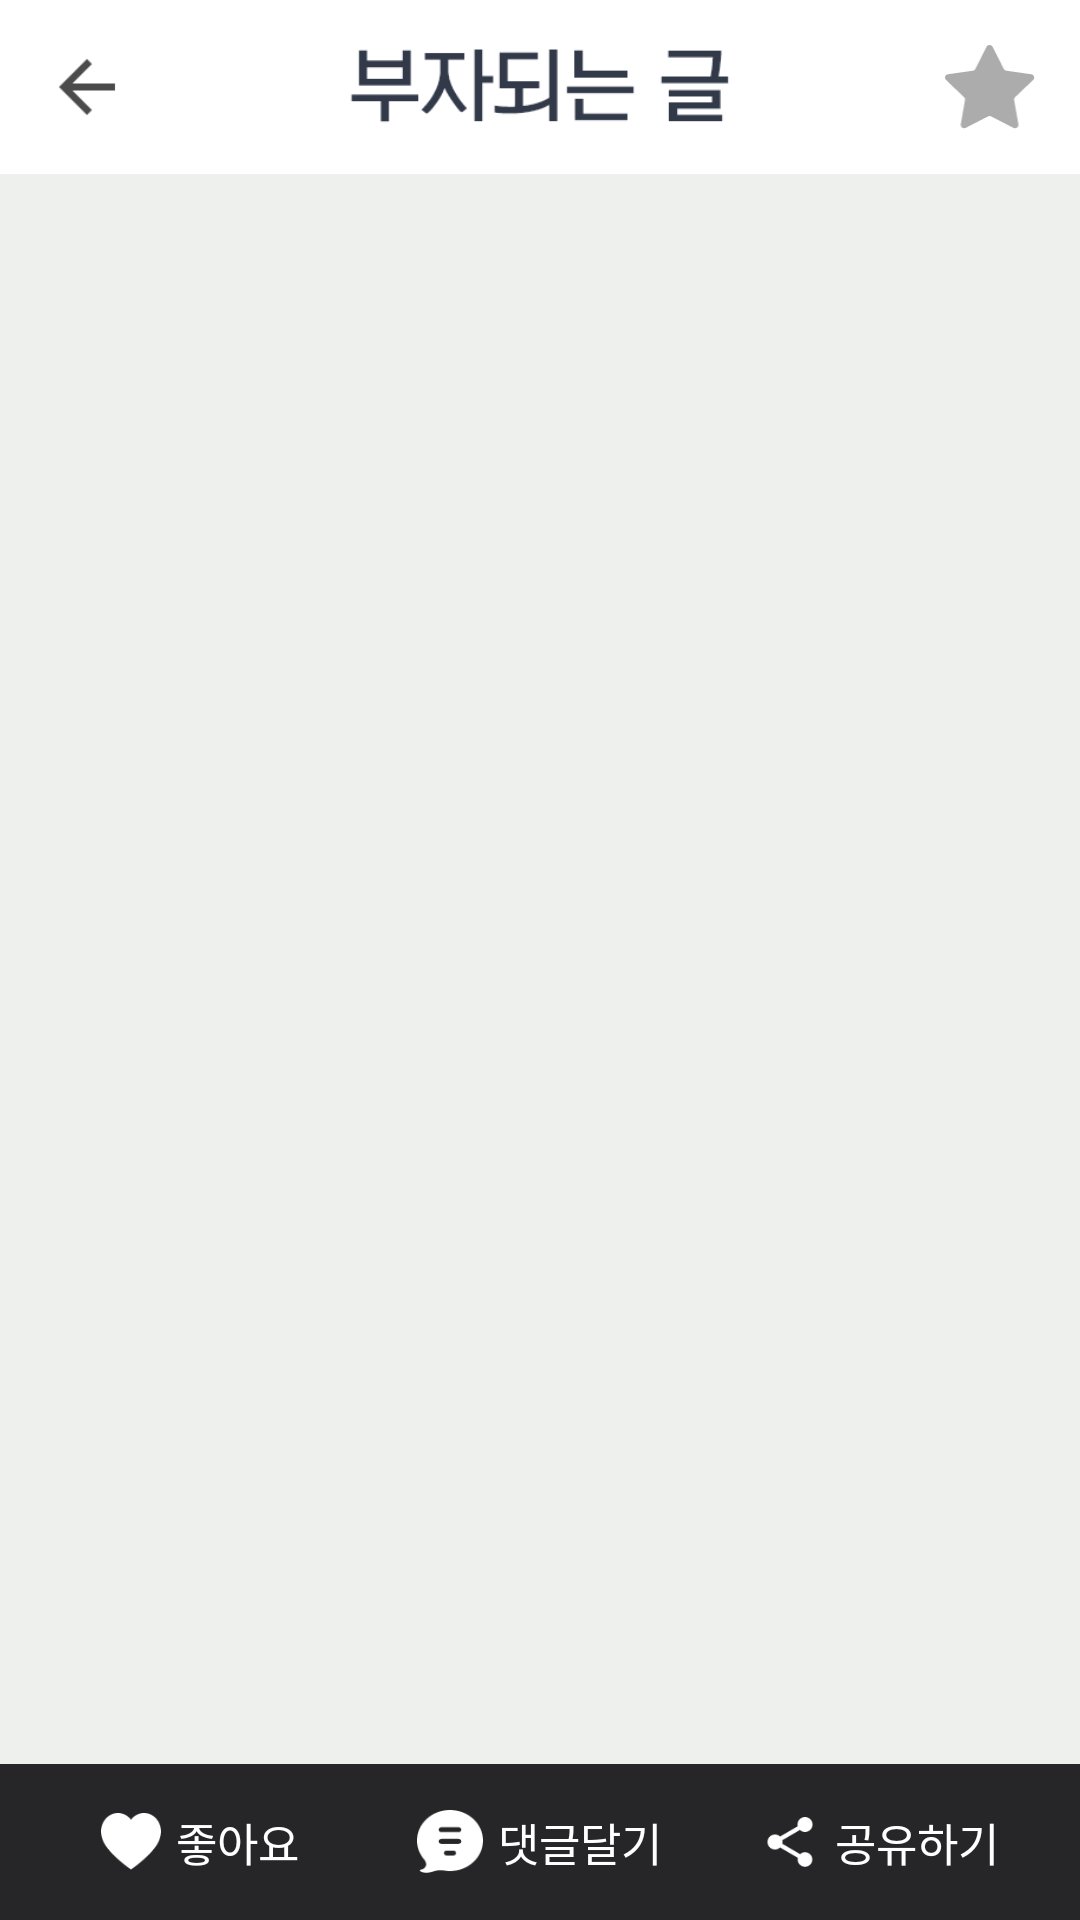

Screen size 1080w x 1920h. Icon name, then its box in pixels as (x1, y1, x2, y2):
back arrow: (59, 59, 115, 115)
page top bookmark: (945, 45, 1034, 128)
page under connect: (767, 1817, 813, 1867)
